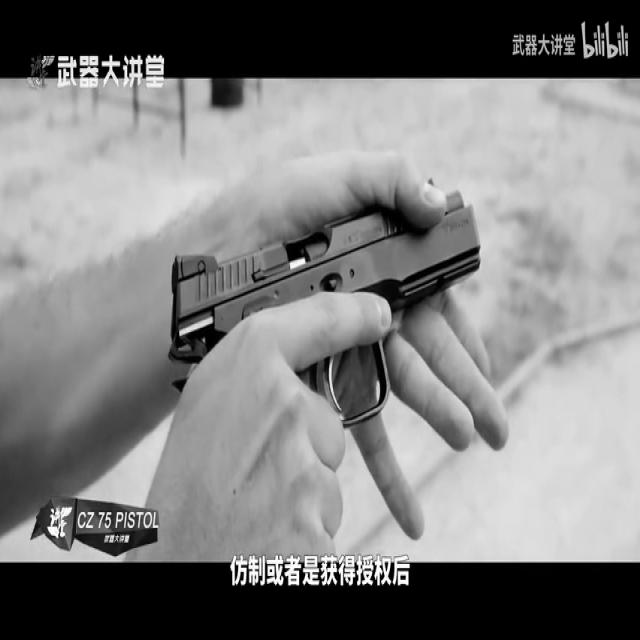Hand-Gun: (162, 165, 525, 571)
